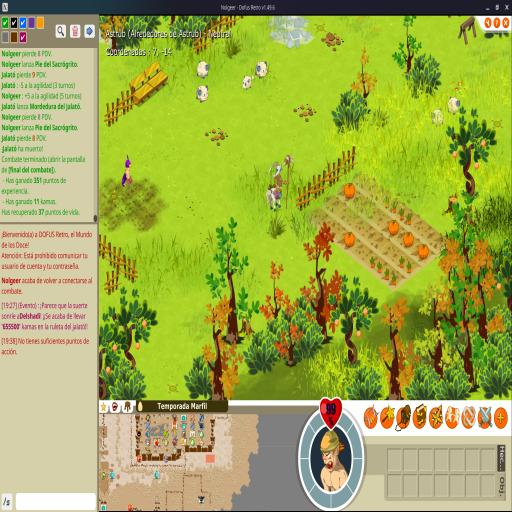Enemigos: (196, 60, 210, 80), (430, 108, 444, 126), (196, 85, 209, 103), (255, 60, 268, 78), (447, 96, 460, 114), (242, 75, 254, 90)
Personaje: (121, 155, 134, 187)
